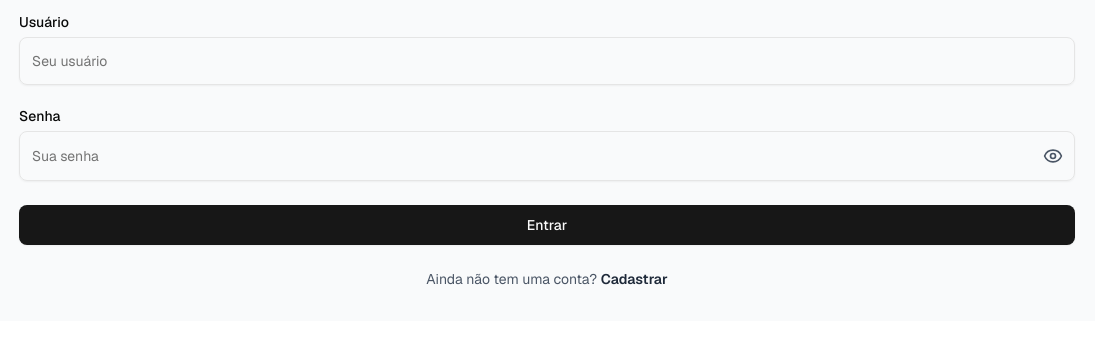
Test: LoginForm › mostra erro se enviar sem preencher os campos
Click the button "Entrar" at (547,225), box [19,205,1075,245]
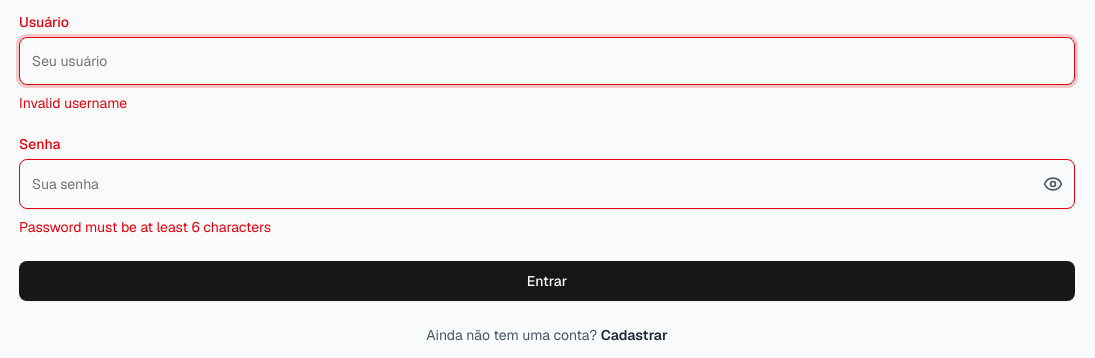
Check: the text "Invalid username" is shown, box [19,94,127,112]
Check: the text "Password must be at least 6 characters" is shown, box [19,218,271,236]
